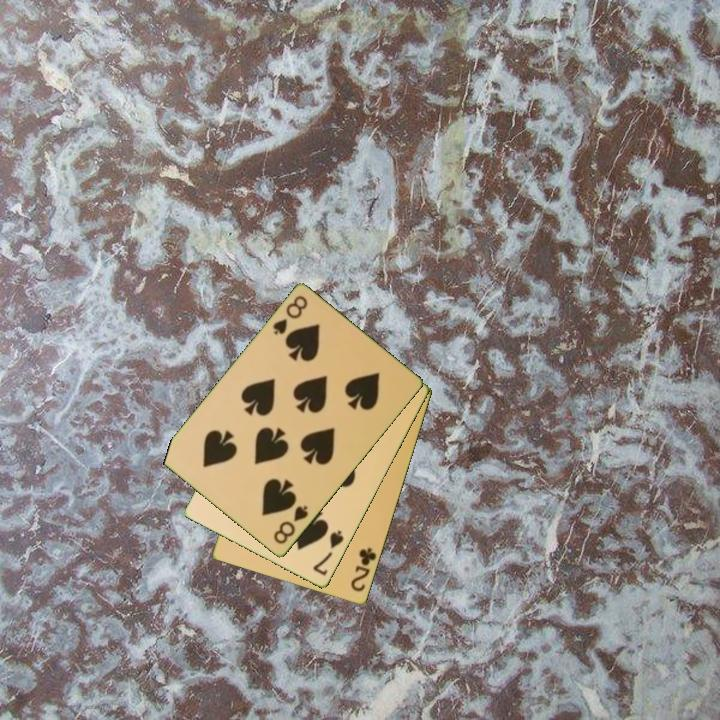2c: (347, 544, 379, 595)
7s: (309, 527, 347, 579)
8s: (269, 292, 311, 338), (270, 502, 311, 547)
